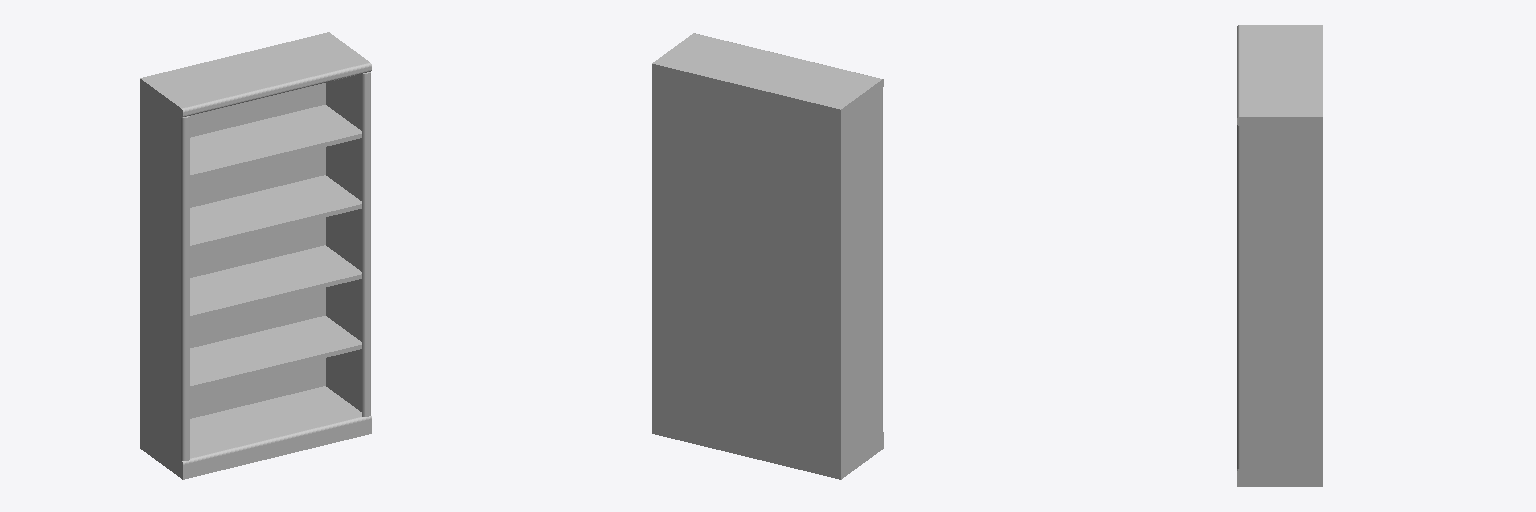
Rendered from bookshelf1.obj.
3 renders of one model, left to right at view 1: azimuth 30°, elevation 25°; view 2: azimuth 150°, elevation 25°; view 3: azimuth 270°, elevation 25°, orthographic.
Parts seen in each view (by area): view 1: bookshelf1; view 2: bookshelf1; view 3: bookshelf1.
Part boxes in pixels (x1,y1,x2,y2): bookshelf1: (140, 32, 371, 479); bookshelf1: (652, 33, 883, 479); bookshelf1: (1237, 25, 1322, 486).
Bounding box in the file's own units: 0.8891 × 1.66 × 0.3502.